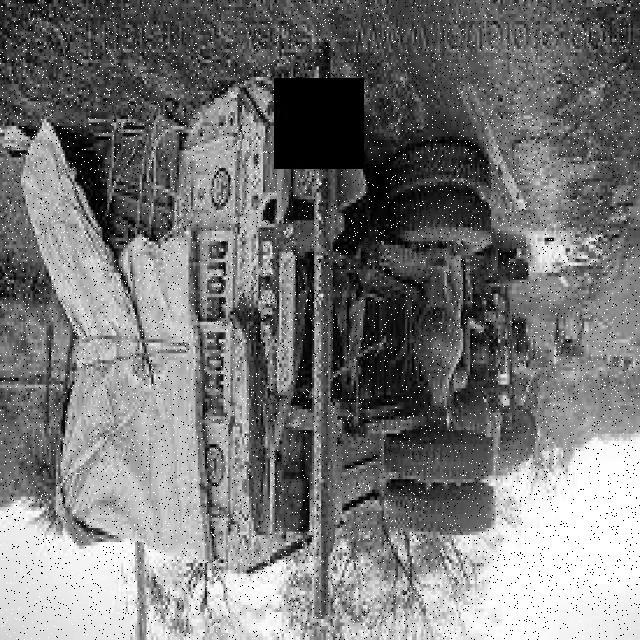severe: (19, 35, 552, 626)
